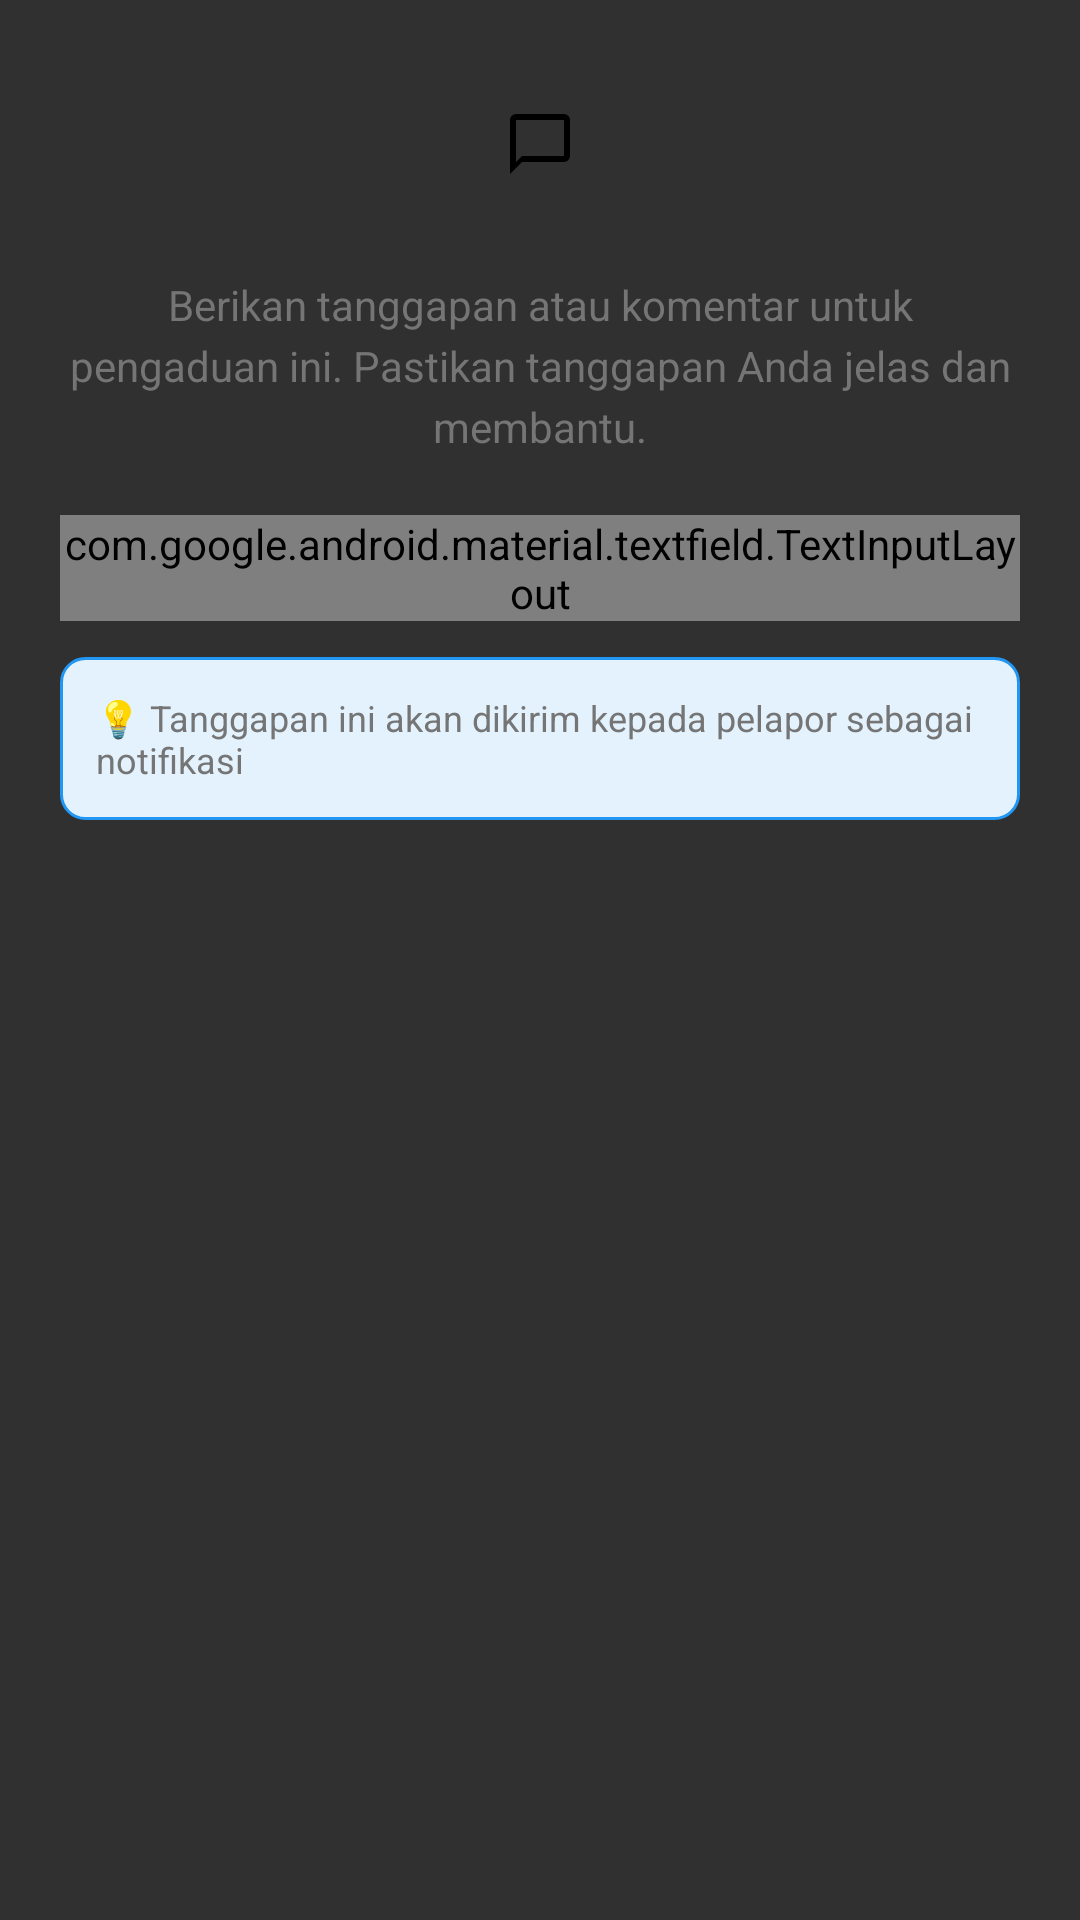

Named icons in this screenshot (1080px×1920px) and their centers, point (x, y):
message: point (540, 144)
